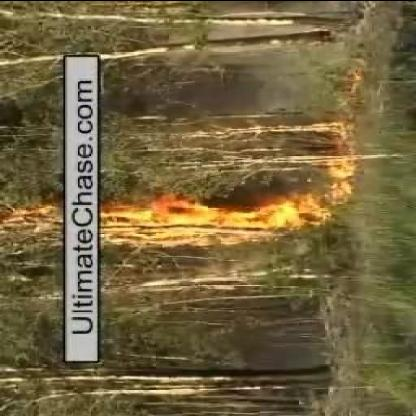foggia-v2-map80-epoch100 - v1 4323: (101, 199, 304, 242), (330, 164, 353, 198)
